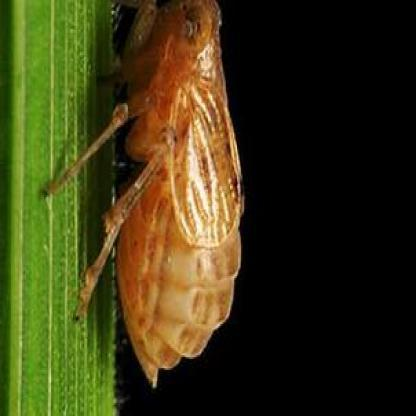brown-planthopper: (111, 5, 242, 384)
